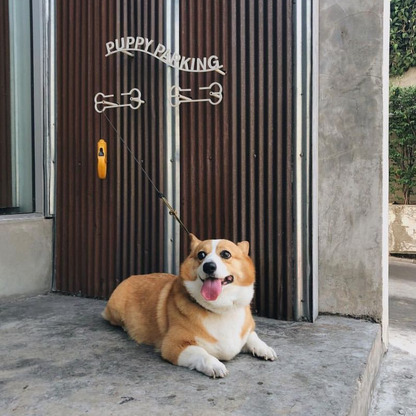Corgi: (87, 201, 300, 385)
